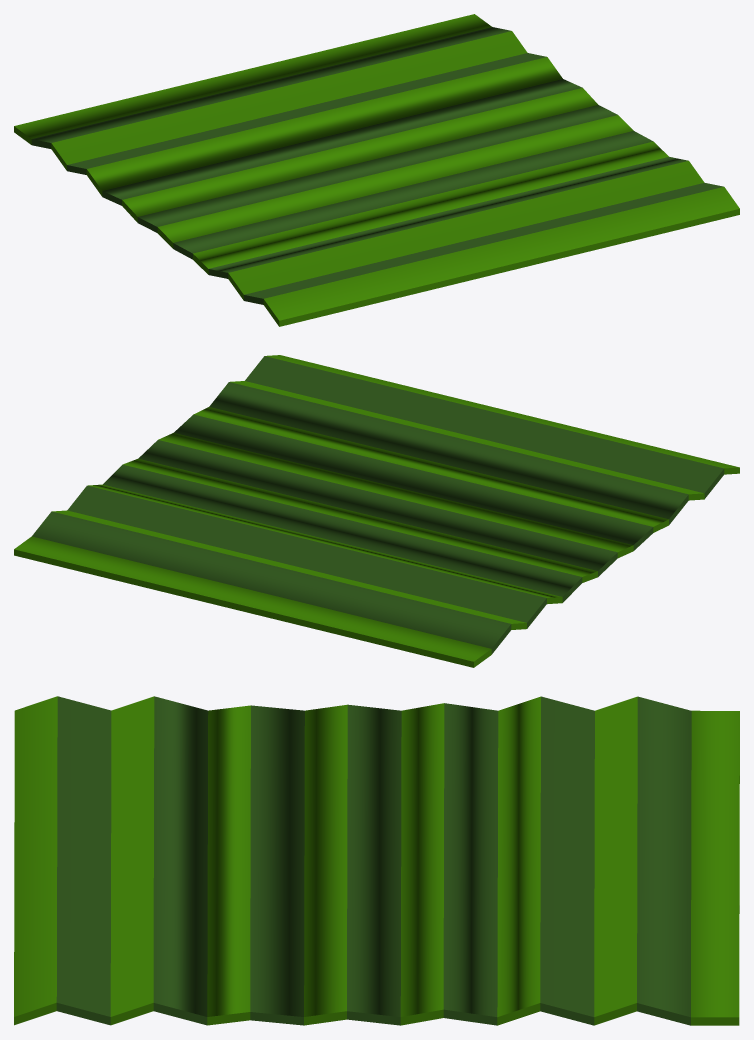
Rendered from DaunPandan.fbx.
3 renders of one model, top to bottom at view 1: azimuth 30°, elevation 25°; view 2: azimuth 150°, elevation 25°; view 3: azimuth 270°, elevation 25°, orthographic. The views are drawn at different scales.
Parts seen in each view (by area): view 1: pandan; view 2: pandan; view 3: pandan.
Boxes of the visible parts, box(x1,y1,x2,y2) form: pandan: box(14, 14, 739, 326); pandan: box(14, 355, 739, 667); pandan: box(14, 696, 739, 1025).
Bounding box in the file's own units: 56.39 × 1.95 × 56.39.
